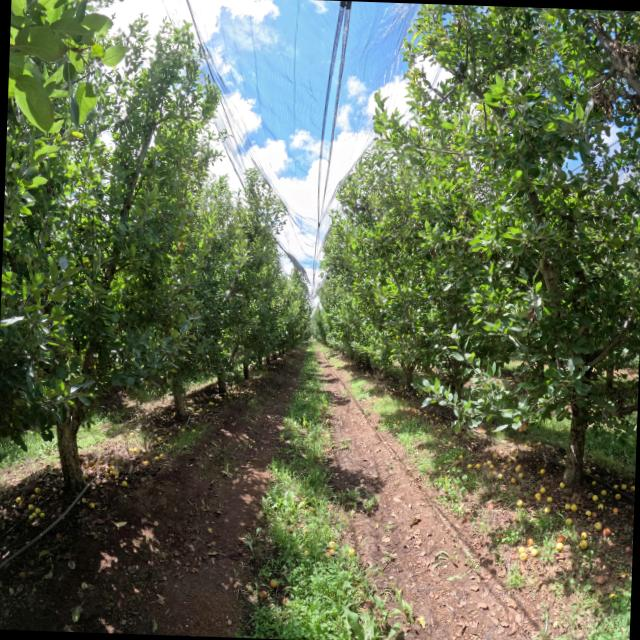-FireBlight-: (590, 80, 617, 118), (611, 40, 640, 73), (526, 307, 536, 323)
